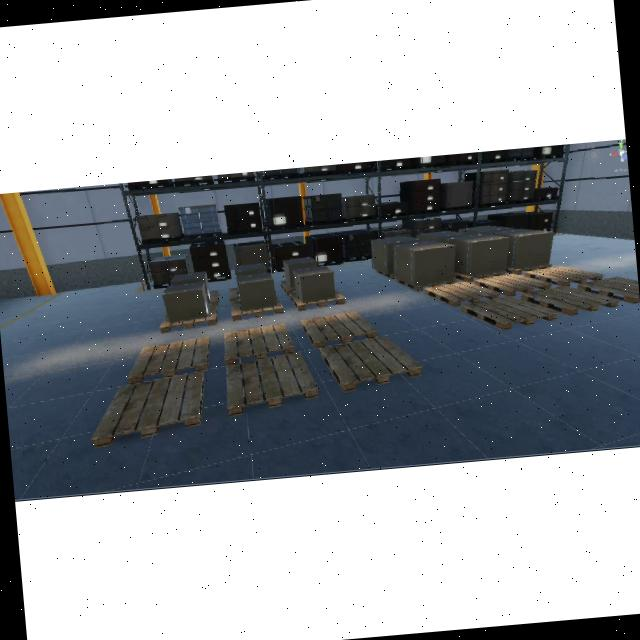wooden_pallet: (90, 370, 205, 448), (225, 351, 319, 415), (319, 336, 424, 392), (127, 337, 211, 384), (461, 295, 557, 330), (223, 323, 295, 365), (521, 285, 620, 315), (301, 311, 379, 349), (423, 281, 499, 307), (474, 273, 552, 296), (577, 276, 640, 304), (524, 265, 603, 286), (159, 304, 218, 332), (230, 296, 283, 321), (289, 289, 345, 311), (396, 277, 458, 291), (455, 271, 505, 282), (505, 263, 552, 274), (376, 269, 395, 279)
